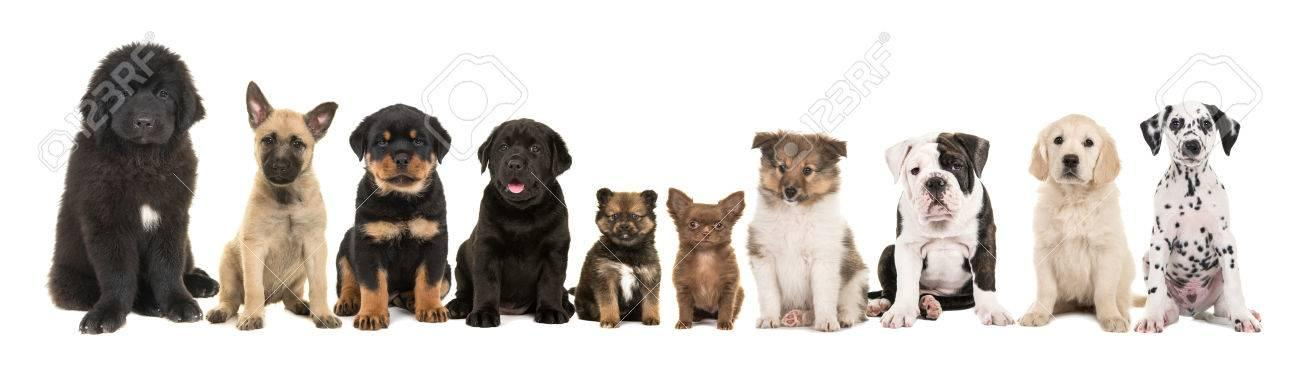dogs: (50, 29, 214, 339), (206, 74, 345, 335), (1134, 83, 1269, 346), (873, 121, 1014, 336), (1019, 101, 1141, 341), (339, 97, 464, 328), (744, 114, 869, 334), (453, 123, 578, 337), (661, 179, 748, 333), (580, 174, 661, 334)
